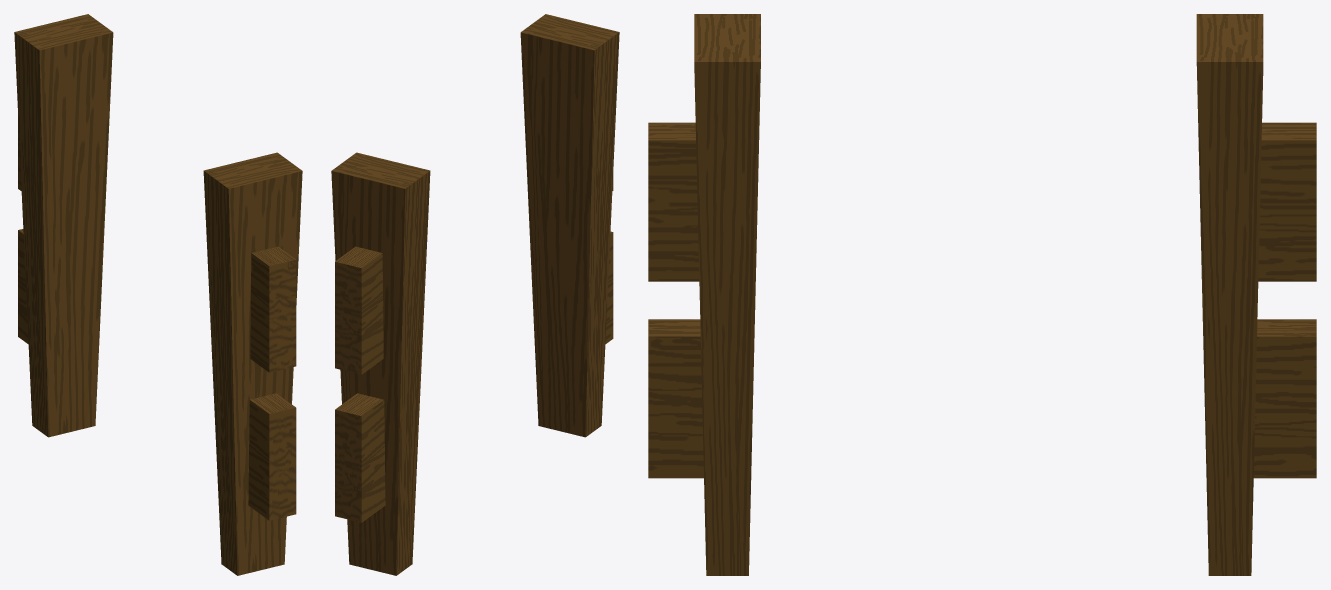
The model's file is fence_door.fbx.
The picture shows the model from 3 angles, left to right: view 1: azimuth 30°, elevation 25°; view 2: azimuth 150°, elevation 25°; view 3: azimuth 270°, elevation 25°; orthographic projection. The views are drawn at different scales.
Parts seen in each view (by area): view 1: fence_door; view 2: fence_door; view 3: fence_door.
Boxes of the visible parts, <box> form: fence_door: <box>14,14,302,575</box>; fence_door: <box>331,14,619,575</box>; fence_door: <box>648,14,1316,575</box>.
Bounding box in the file's own units: 39.29 × 200 × 232.
